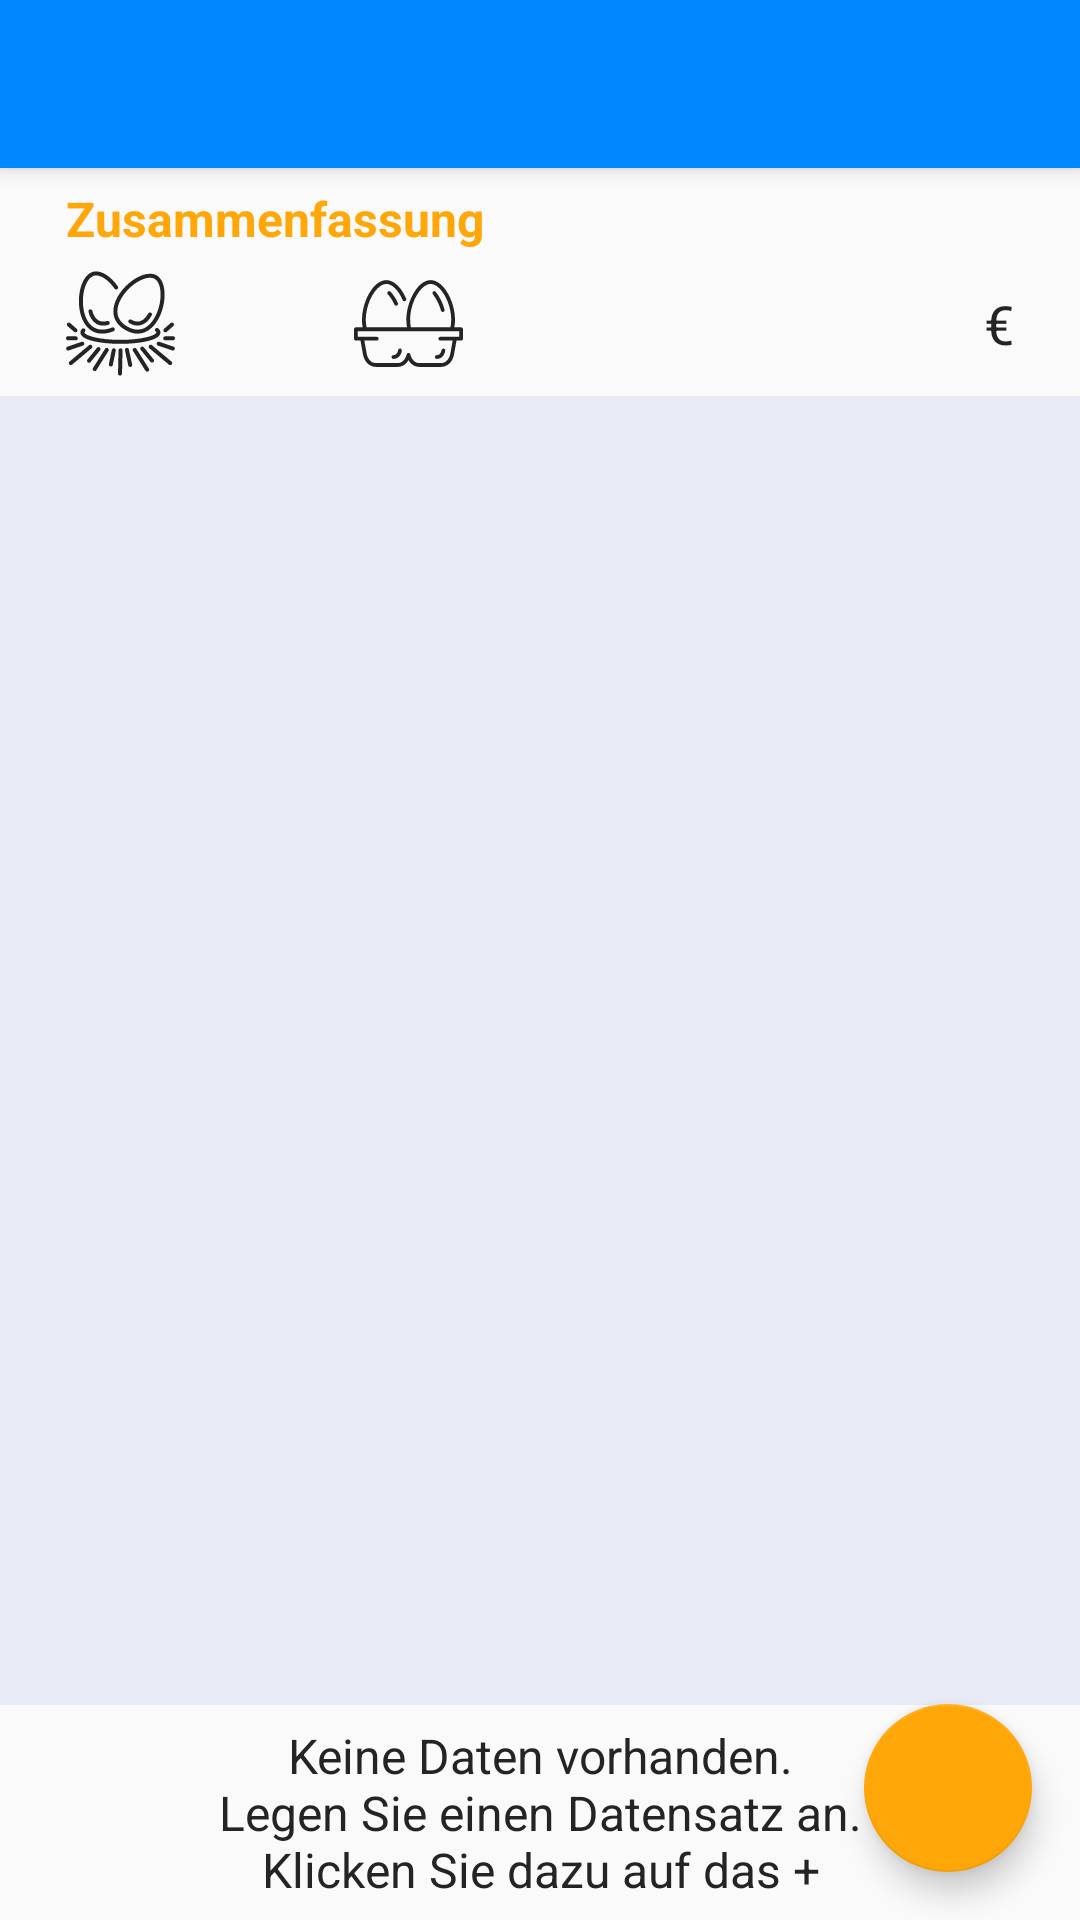

Named icons in this screenshot (1080 × 1920) and their centers, (x,y):
egg nest: (120,323)
eggs: (408,323)
